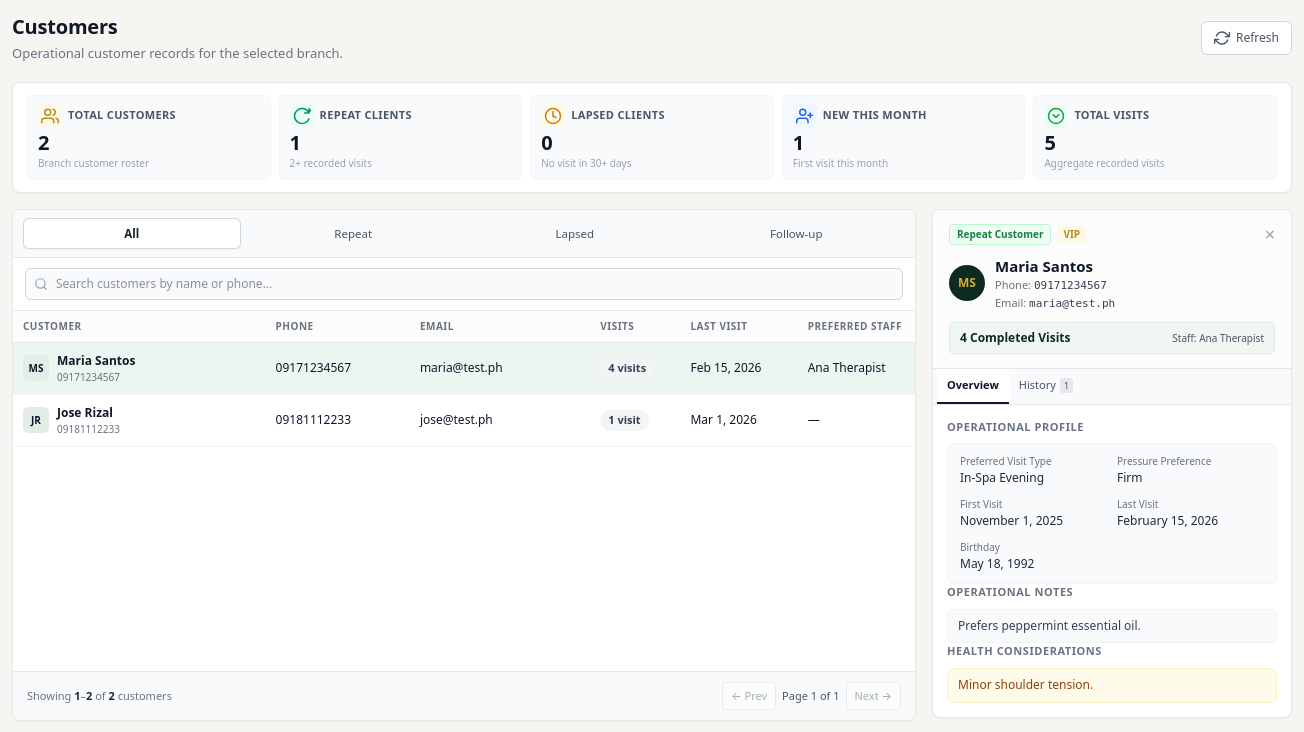
Test: Customers Workspace Component Suite › switches to history tab in inspector and displays operational booking history without finance
# Click History tab in inspector
Click the tab "History 1": (1046, 386) [1009,369,1083,404]
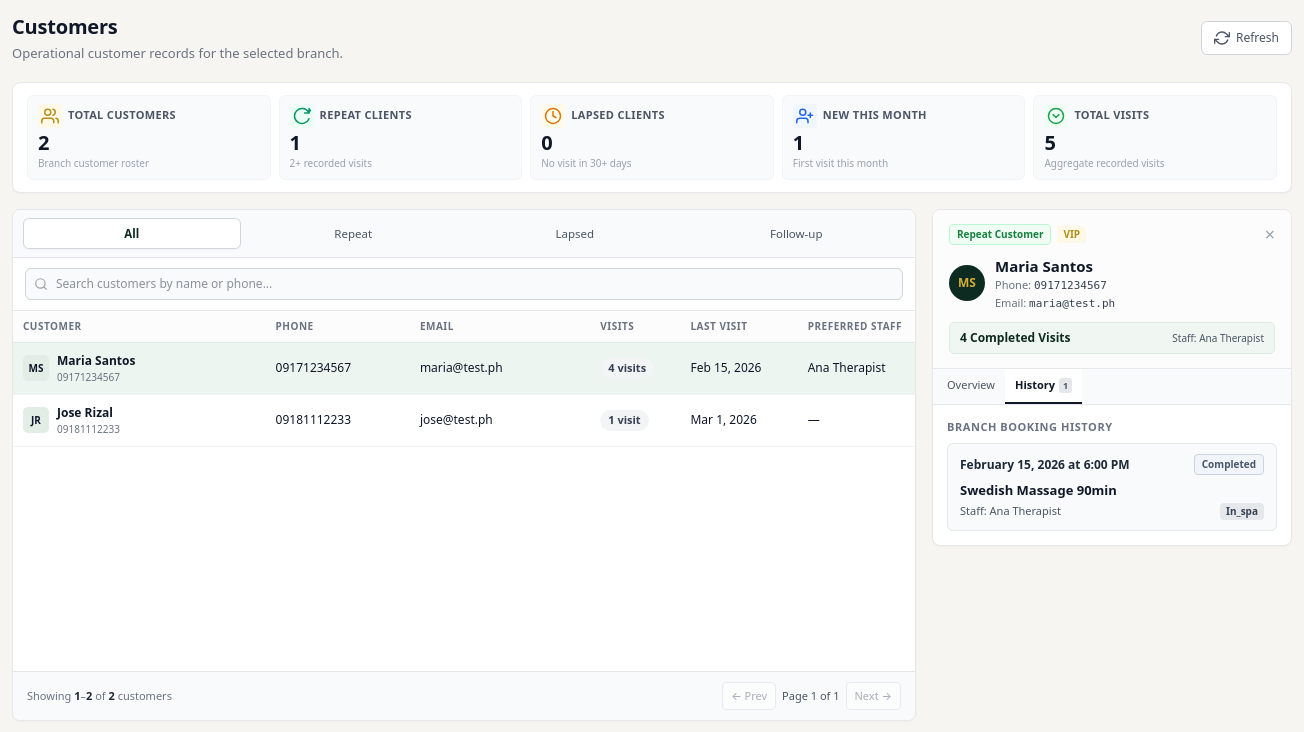
Expected: the text "Swedish Massage 90min" is shown, [960,481,1117,499]
